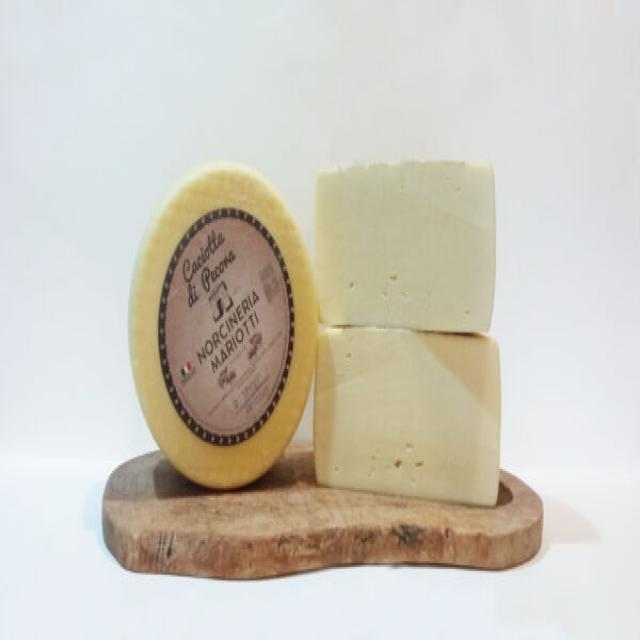Cheese: (116, 165, 320, 503), (318, 304, 514, 530), (310, 146, 505, 340)
